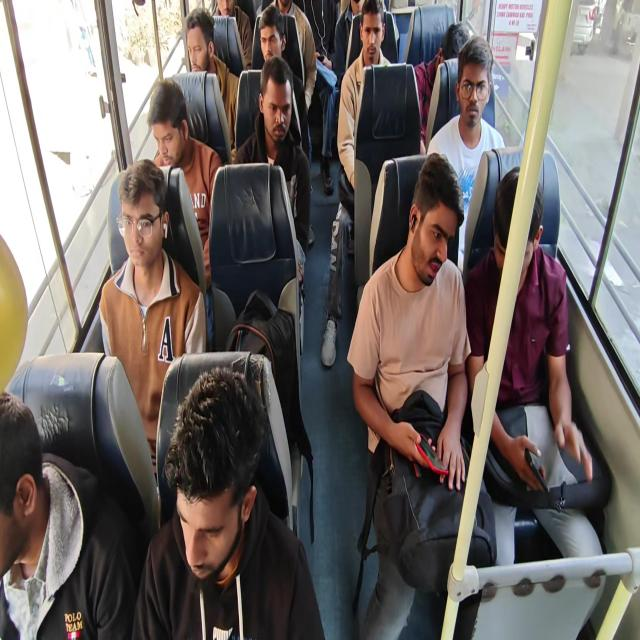person: (346, 151, 497, 638), (464, 165, 608, 585), (131, 366, 325, 639), (98, 158, 206, 490), (0, 390, 136, 638), (320, 0, 392, 367), (146, 79, 223, 346), (426, 35, 506, 274), (233, 56, 312, 264), (337, 0, 392, 209), (294, 0, 340, 195), (256, 4, 312, 164), (184, 8, 239, 150), (413, 21, 470, 154), (211, 0, 252, 69), (334, 0, 365, 91)
